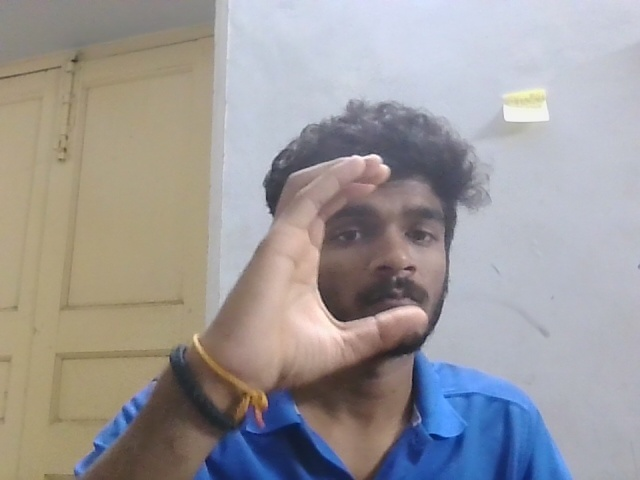No: (207, 147, 439, 400)
